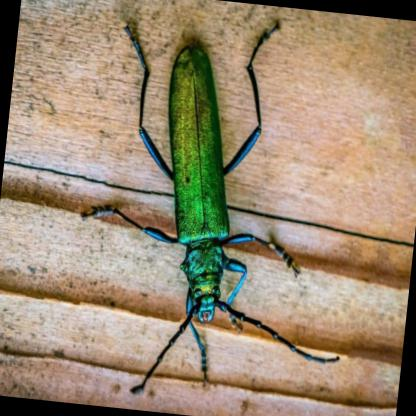blister beetle: (111, 42, 263, 325)
